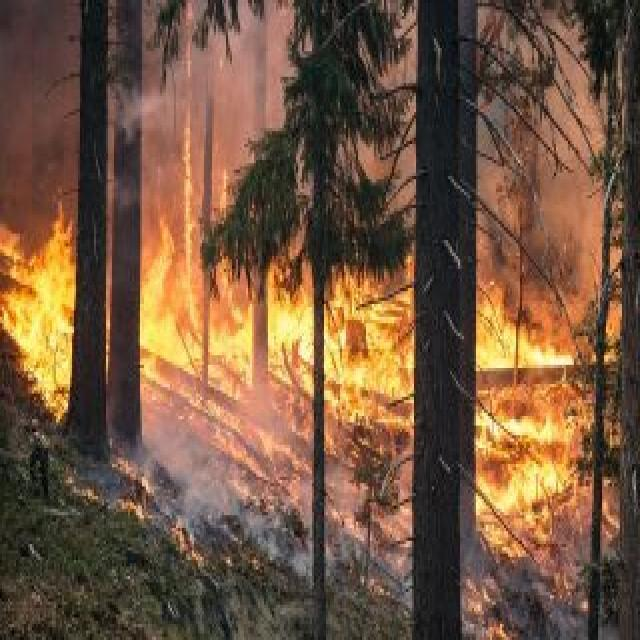Fire: (215, 246, 580, 378), (0, 193, 81, 430), (137, 205, 218, 378), (176, 32, 202, 344), (461, 457, 566, 532), (472, 394, 579, 451)
Smoke: (150, 404, 336, 588), (460, 531, 616, 640), (330, 466, 419, 610)
